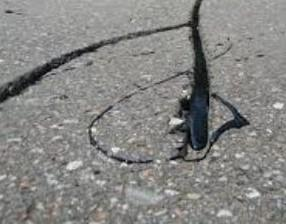crack: (170, 0, 252, 164)
